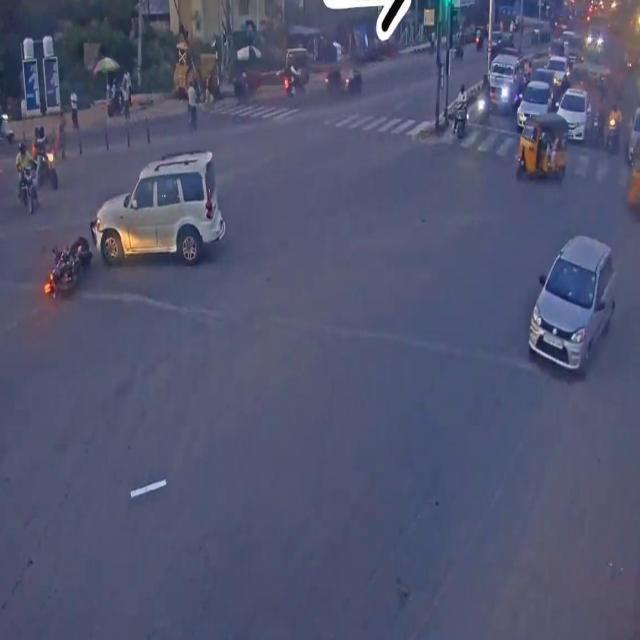accident: (37, 138, 237, 317)
non_accident: (454, 54, 622, 192), (15, 117, 61, 219)
